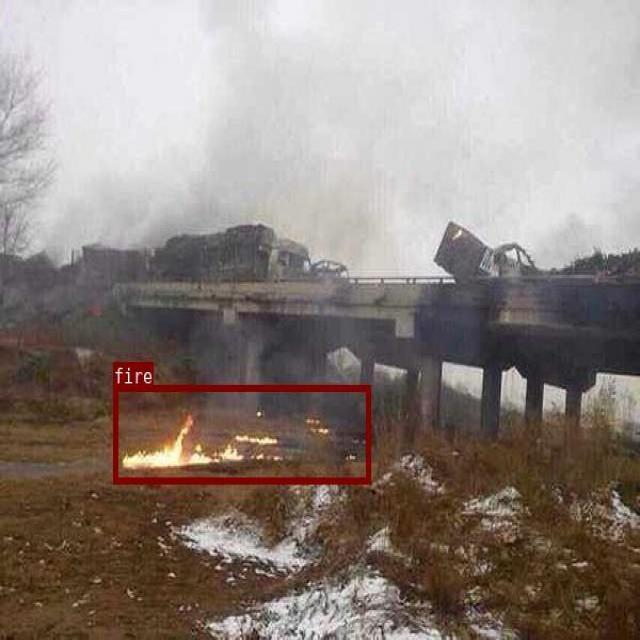fire: (113, 383, 370, 483)
